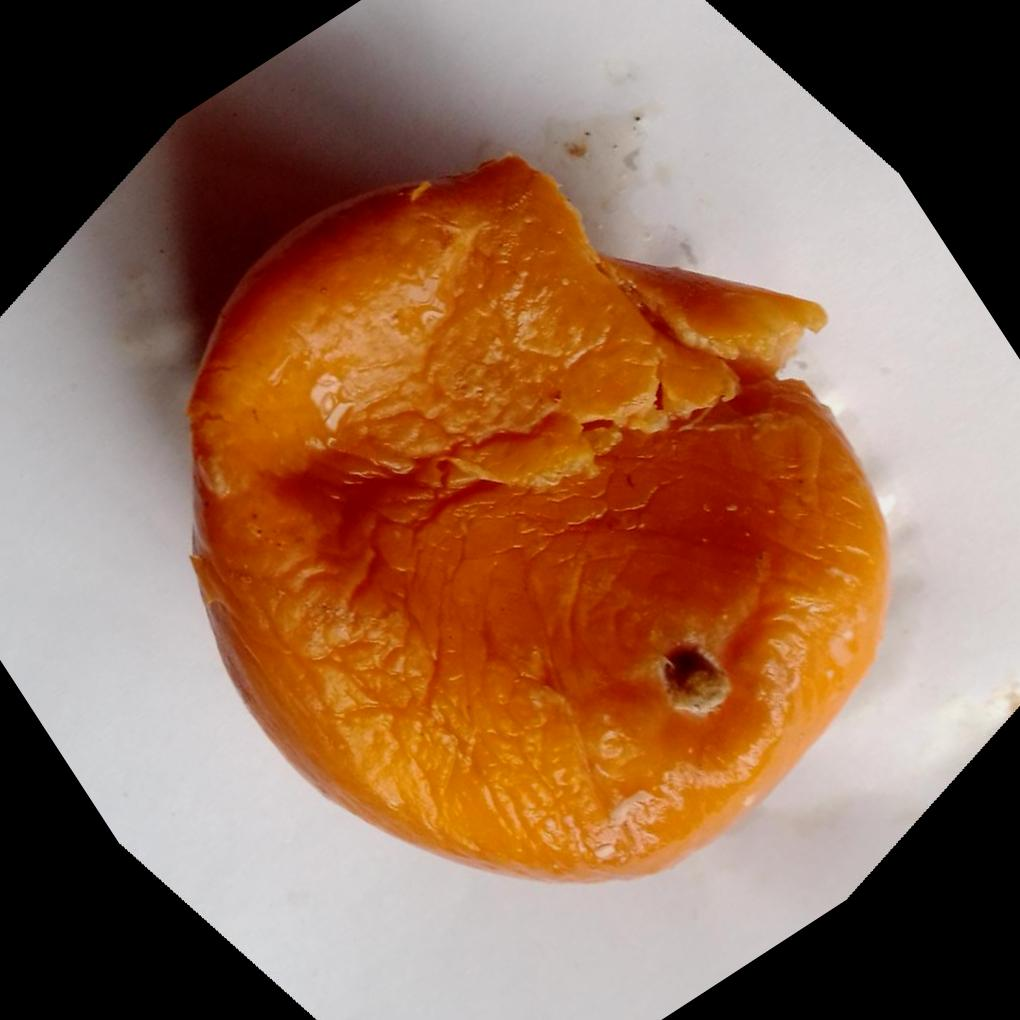FreshOrange: (183, 151, 889, 883)
